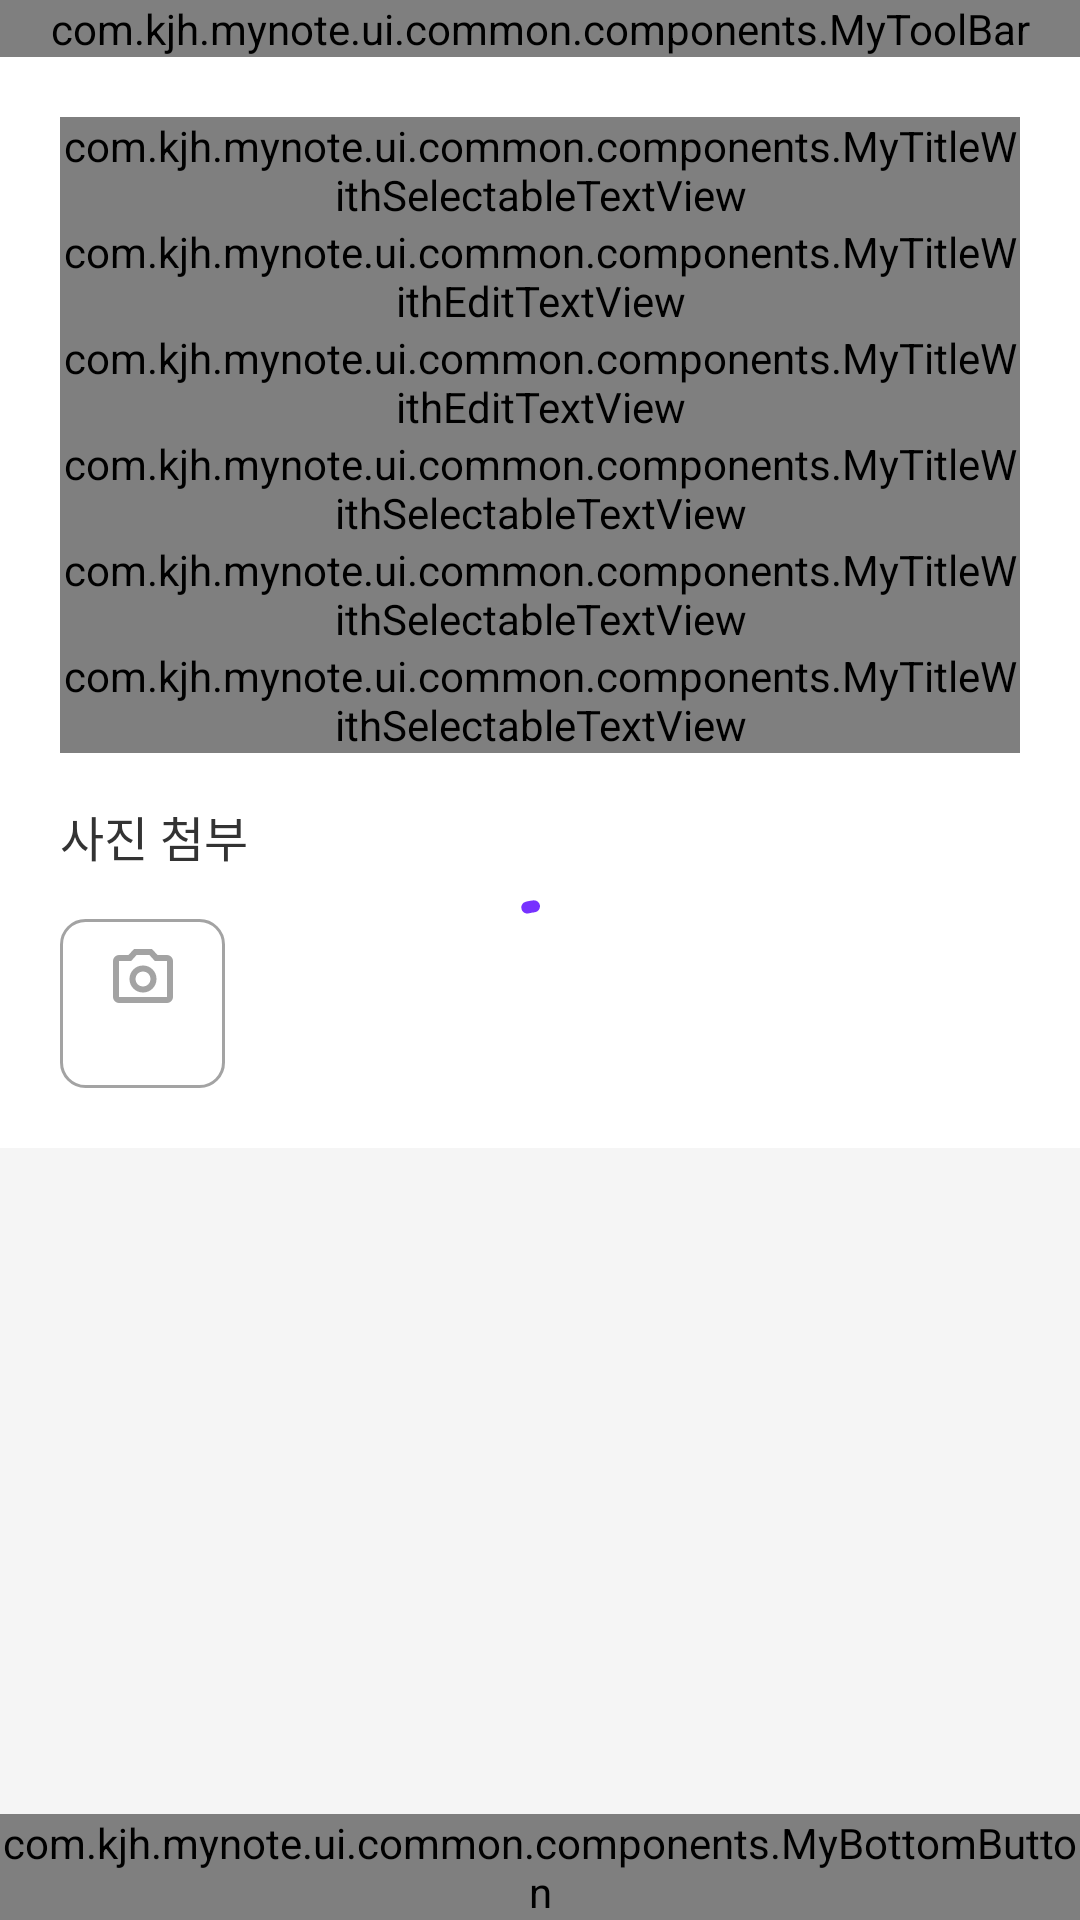

Named icons in this screenshot (1080 x 1920) and their centers, (x,y):
camera: (143,976)
